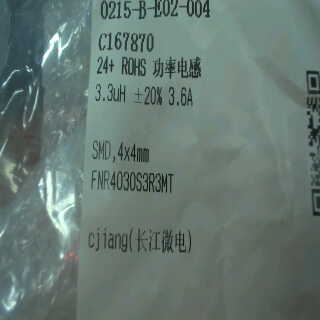3.3uH: (92, 79, 131, 106)
